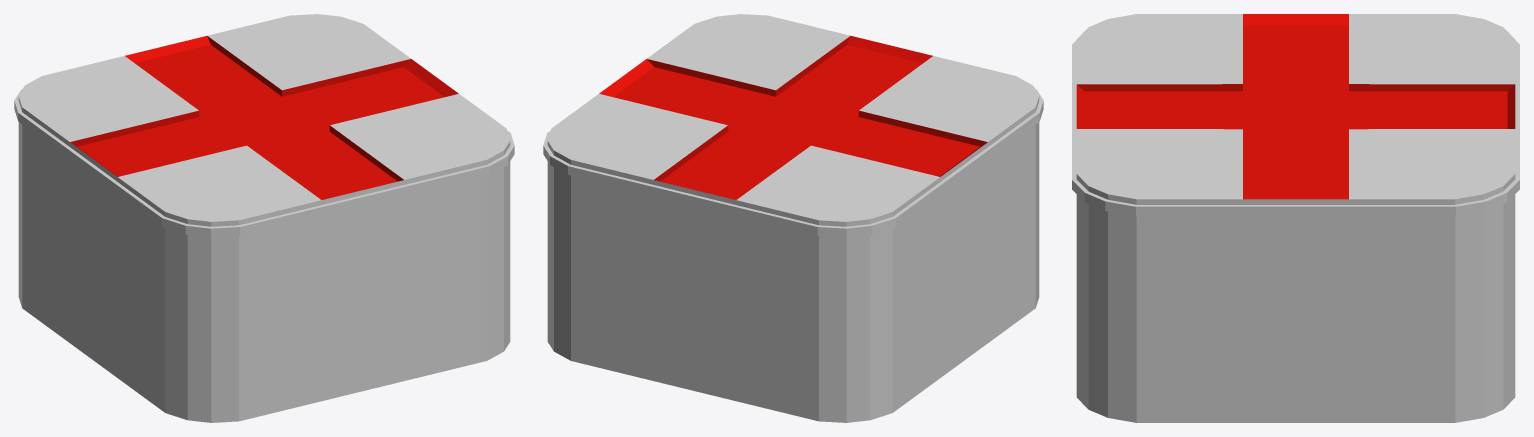
File: medicine.fbx
3 views of the same model, side by side, from view 1: azimuth 30°, elevation 25°; view 2: azimuth 150°, elevation 25°; view 3: azimuth 270°, elevation 25° (orthographic). The views are drawn at different scales.
Parts seen in each view (by area): view 1: Cube; view 2: Cube; view 3: Cube.
Boxes of the visible parts, x1,y1,x2,y2 form: Cube: (14,14,514,422); Cube: (543,14,1043,422); Cube: (1072,14,1519,422).
Size of the model in its own units: 204 by 113 by 204.
